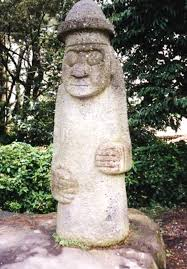Stone Statue: (46, 1, 140, 253)
